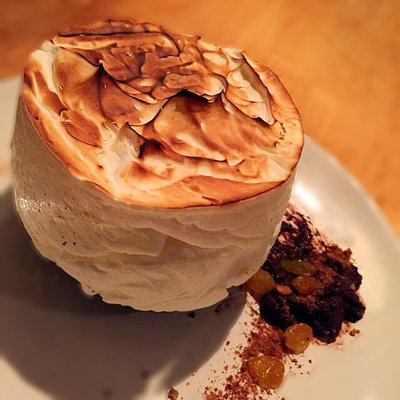soup: (8, 18, 305, 317)
